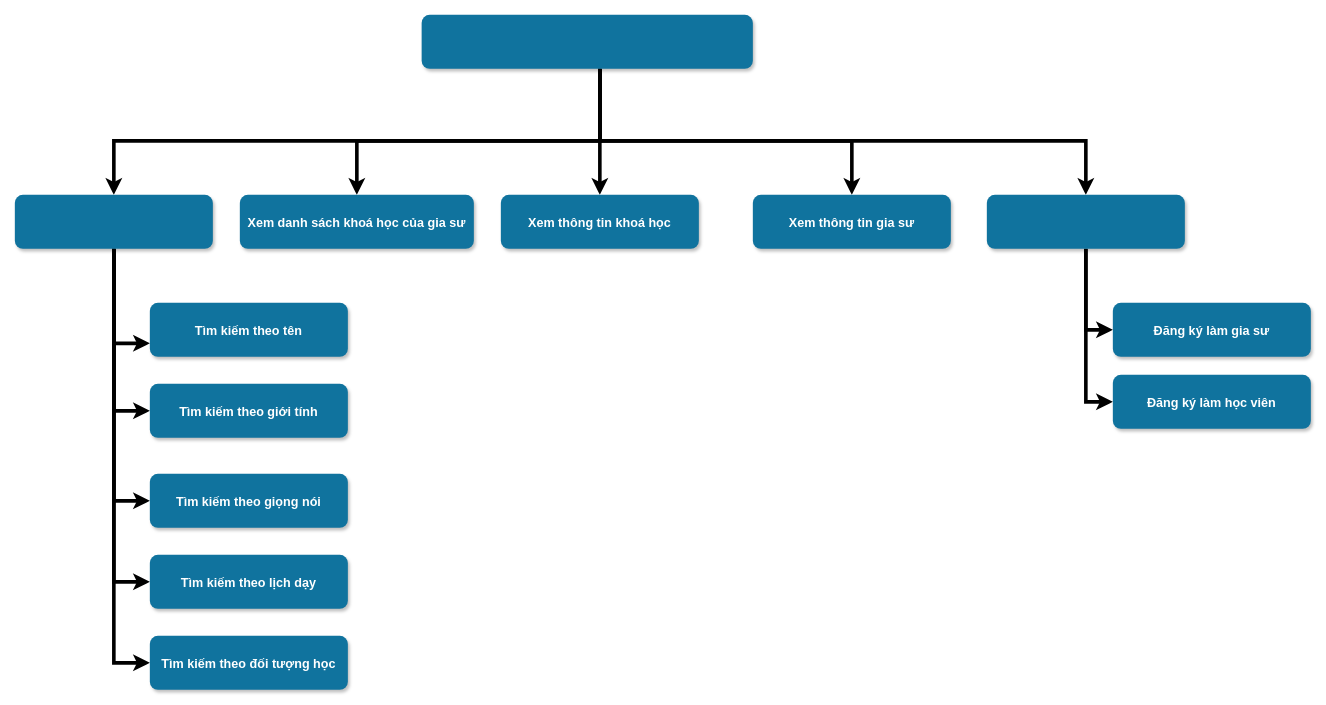
The diagram is 1326 pixels wide and 705 high, and some of its shapes have lost their labels. Here are the shapes that lost their labels. From the top down, the centre of each, then its label:
At (x=588, y=43): "HỆ THỐNG CỘNG ĐỒNG GIA SƯ".
At (x=114, y=223): "Tìm kiếm khoá học".
At (x=1086, y=223): "Đăng ký".
